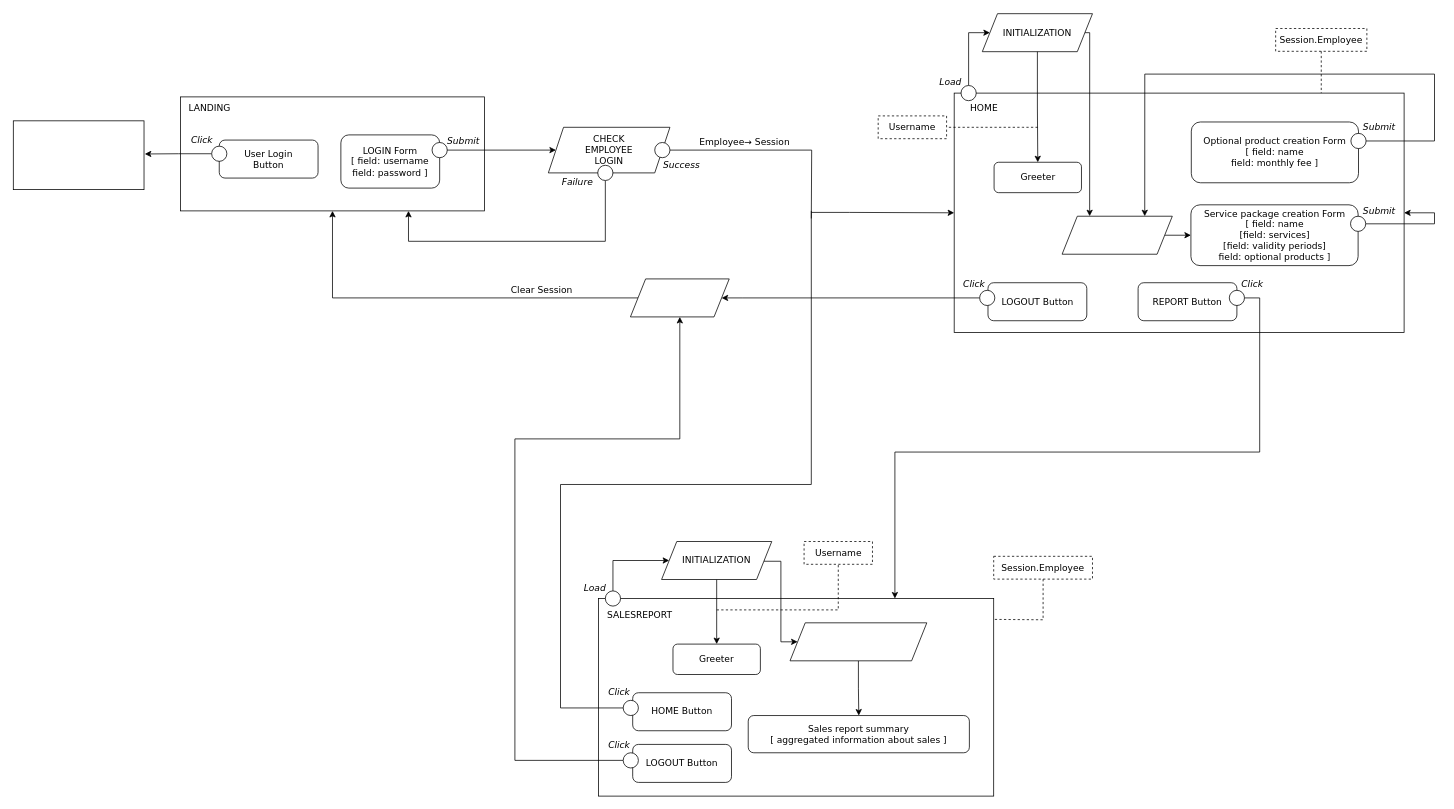
This 1454x809 diagram has some shape labels left out. The shapes that lost their labels are listed below. From the top down, each one's centre as x and y in pixels, then its label:
[78,155]: USER LANDING PAGE
[1116,234]: LOAD OPTIONAL PRODUCTS
[679,297]: LOGOUT
[858,641]: LOAD SALES REPORT
